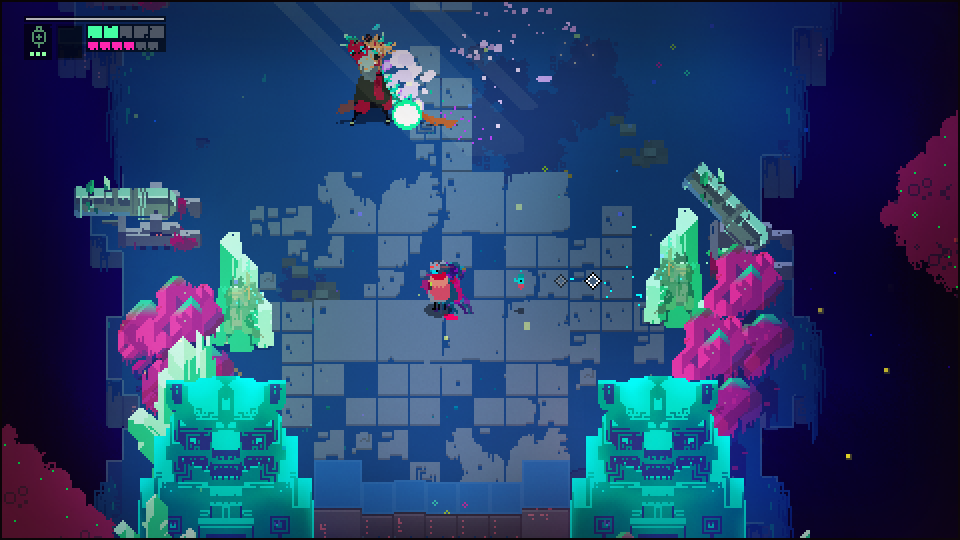hanged_man: (334, 23, 432, 130)
hanged_shot: (392, 98, 424, 132)
player: (427, 258, 453, 311)
